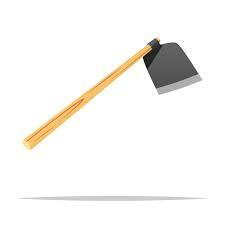HOUE: (6, 3, 215, 163)
